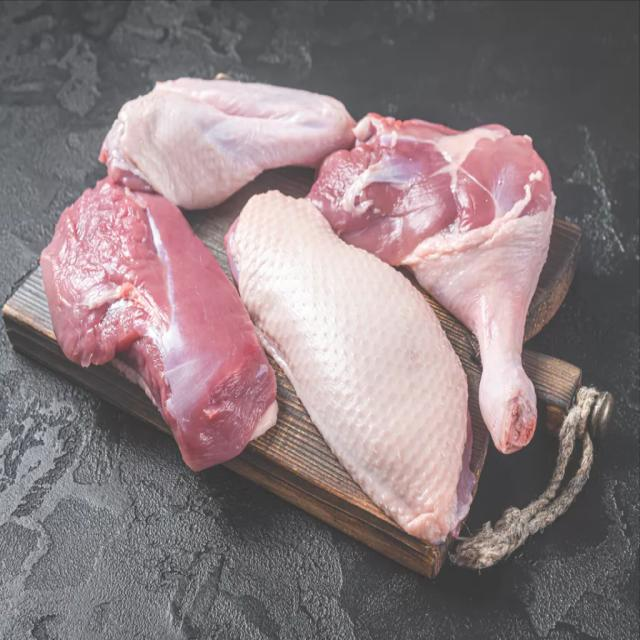duck: (41, 78, 555, 542)
